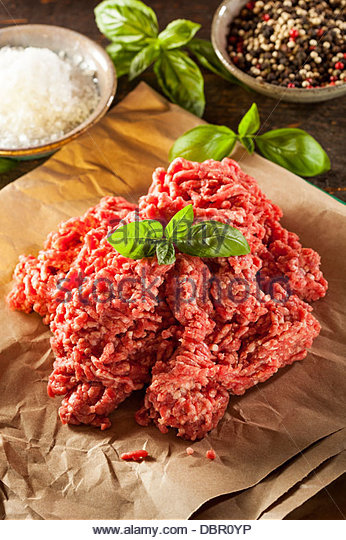ground_beef: (10, 168, 330, 443)
